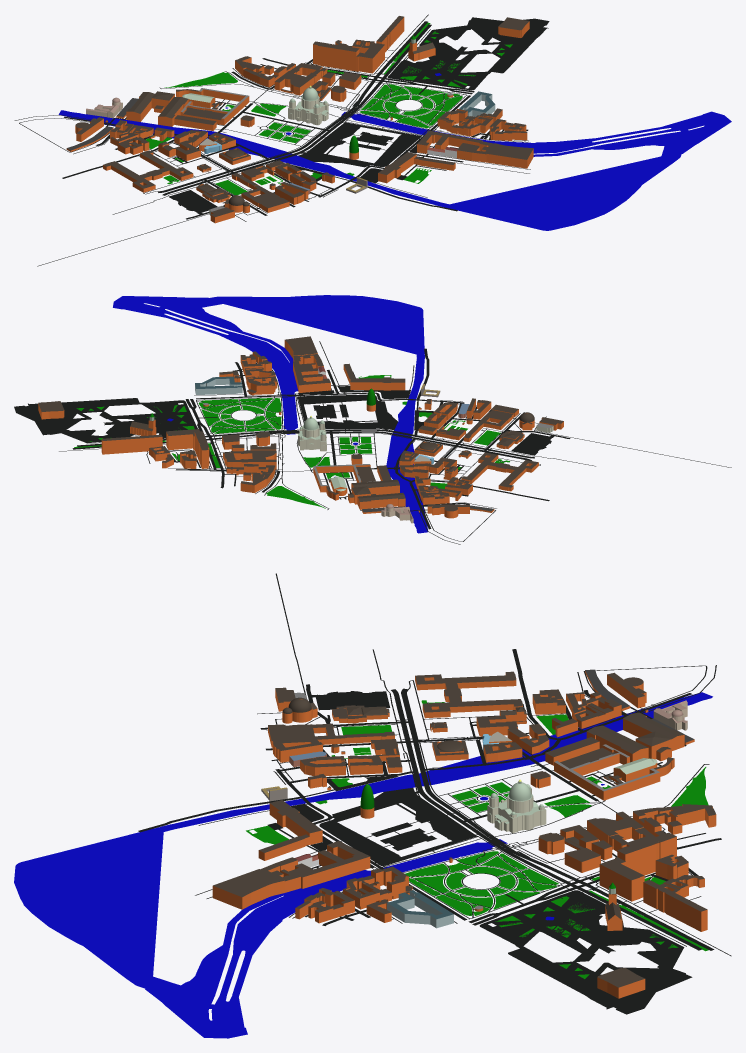
The model's file is Berlin.obj.
3 renders of one model, top to bottom at view 1: azimuth 30°, elevation 25°; view 2: azimuth 150°, elevation 25°; view 3: azimuth 270°, elevation 25°, orthographic. The views are drawn at different scales.
Visible parts, largest first — view 1: map_3.osm_buildings, map_3.osm_water, map_3.osm_areas_pedestrian, map_3.osm_vegetation, map_3.osm_paths_footway, map_3.osm_roads_primary, map_3.osm_roads_residential, map_3.osm_roads_pedestrian, map_3.osm_areas_footway, map_3.osm_roads_tertiary, map_3.osm_roads_service; view 2: map_3.osm_buildings, map_3.osm_water, map_3.osm_areas_pedestrian, map_3.osm_vegetation, map_3.osm_paths_footway, map_3.osm_roads_residential, map_3.osm_roads_primary, map_3.osm_roads_pedestrian, map_3.osm_roads_tertiary, map_3.osm_areas_footway, map_3.osm_roads_service; view 3: map_3.osm_buildings, map_3.osm_water, map_3.osm_areas_pedestrian, map_3.osm_vegetation, map_3.osm_paths_footway, map_3.osm_roads_primary, map_3.osm_roads_residential, map_3.osm_roads_pedestrian, map_3.osm_areas_footway, map_3.osm_roads_service.
Part boxes in pixels (bbox=[...]): map_3.osm_buildings: bbox=[66, 16, 533, 223]; map_3.osm_water: bbox=[58, 73, 731, 230]; map_3.osm_areas_pedestrian: bbox=[291, 17, 549, 183]; map_3.osm_vegetation: bbox=[145, 22, 512, 195]; map_3.osm_paths_footway: bbox=[14, 14, 530, 266]; map_3.osm_roads_primary: bbox=[158, 21, 431, 195]; map_3.osm_roads_residential: bbox=[62, 95, 470, 219]; map_3.osm_roads_pedestrian: bbox=[206, 49, 528, 211]; map_3.osm_areas_footway: bbox=[168, 190, 217, 214]; map_3.osm_roads_tertiary: bbox=[231, 59, 463, 197]; map_3.osm_roads_service: bbox=[106, 64, 503, 209]; map_3.osm_buildings: bbox=[38, 336, 563, 523]; map_3.osm_water: bbox=[113, 295, 427, 533]; map_3.osm_areas_pedestrian: bbox=[14, 386, 433, 442]; map_3.osm_vegetation: bbox=[74, 375, 509, 508]; map_3.osm_paths_footway: bbox=[59, 341, 731, 544]; map_3.osm_roads_residential: bbox=[196, 393, 570, 529]; map_3.osm_roads_primary: bbox=[72, 429, 534, 460]; map_3.osm_roads_pedestrian: bbox=[116, 348, 437, 488]; map_3.osm_roads_tertiary: bbox=[176, 370, 464, 492]; map_3.osm_areas_footway: bbox=[511, 433, 554, 455]; map_3.osm_roads_service: bbox=[169, 362, 517, 511]; map_3.osm_buildings: bbox=[212, 669, 716, 998]; map_3.osm_water: bbox=[14, 692, 712, 1038]; map_3.osm_areas_pedestrian: bbox=[291, 775, 692, 1014]; map_3.osm_vegetation: bbox=[246, 700, 708, 978]; map_3.osm_paths_footway: bbox=[195, 573, 731, 956]; map_3.osm_roads_primary: bbox=[391, 688, 714, 950]; map_3.osm_roads_residential: bbox=[260, 649, 692, 920]; map_3.osm_roads_pedestrian: bbox=[138, 740, 721, 941]; map_3.osm_areas_footway: bbox=[311, 691, 390, 710]; map_3.osm_roads_service: bbox=[271, 706, 705, 917].
Bounding box in the file's own units: 75.74 × 3.3 × 49.42.
